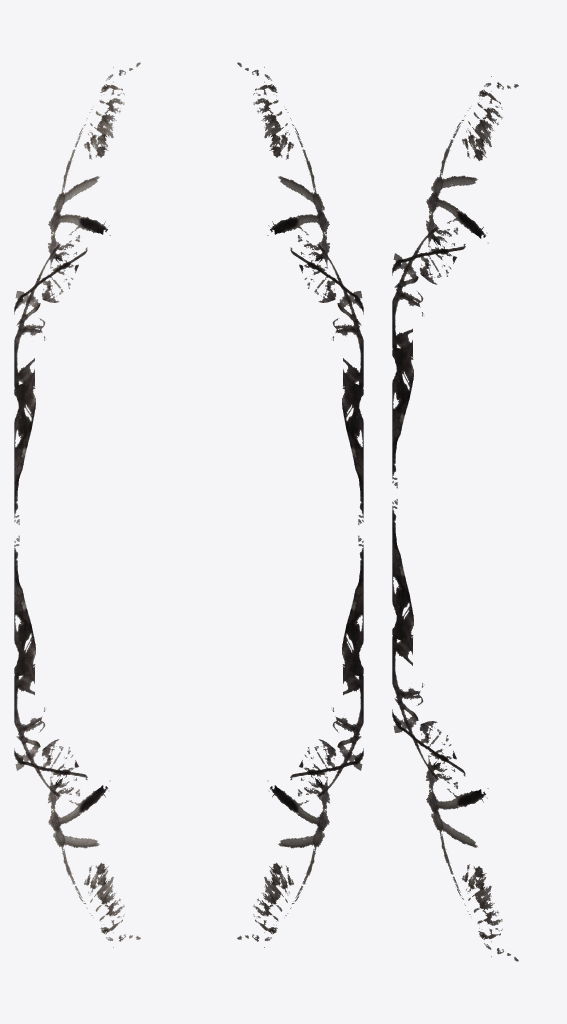
The model's file is PPX_REED2.fbx.
3 renders of one model, left to right at view 1: azimuth 30°, elevation 25°; view 2: azimuth 150°, elevation 25°; view 3: azimuth 330°, elevation 25°, orthographic.
Parts seen in each view (by area): view 1: 图层 10.png_2, 图层 10.png; view 2: 图层 10.png_2, 图层 10.png; view 3: 图层 10.png, 图层 10.png_2.
Boxes of the visible parts, x1,y1,x2,y2 form: 图层 10.png_2: (14,535,140,947); 图层 10.png: (14,62,140,524); 图层 10.png_2: (237,535,363,947); 图层 10.png: (237,62,363,524); 图层 10.png: (392,76,518,488); 图层 10.png_2: (392,499,518,961).
Bounding box in the file's own units: 69.07 × 0 × 393.
Materials: 1 (1 with a texture image).
